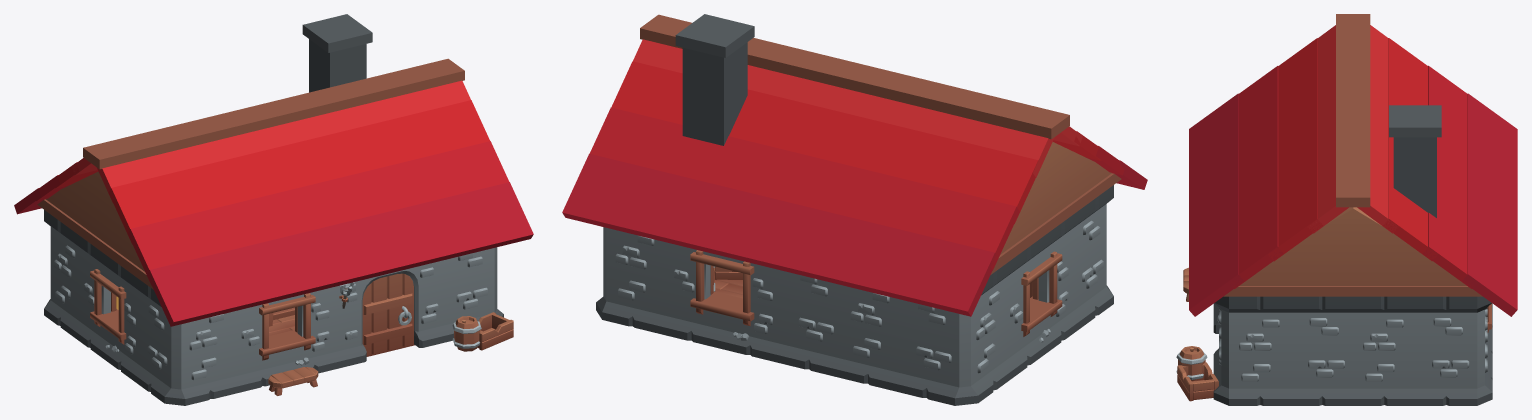
File: FarmHouse.glb
3 renders of one model, left to right at view 1: azimuth 30°, elevation 25°; view 2: azimuth 150°, elevation 25°; view 3: azimuth 270°, elevation 25°, orthographic. The views are drawn at different scales.
Visible parts, largest first — view 1: Roof, wall_corner.002, wall_window_open.001, wall_window_open.002, Gables, wall_doorway, Chimney, wall_corner.003, wall_doorway_door, wall_corner.001, crate_small, bench (+1 smaller); view 2: Roof, wall, wall_corner.001, wall_window_open, wall_window_open.002, Chimney, wall_corner, Gables, wall_corner.002; view 3: Roof, wall.001, Gables, wall_corner, wall_corner.003, Chimney, crate_small, barrel_small, wall_window_open.
Part boxes in pixels (bbox=[...]): Roof: bbox=[14, 58, 533, 326]; wall_corner.002: bbox=[134, 276, 237, 405]; wall_window_open.001: bbox=[233, 286, 341, 392]; wall_window_open.002: bbox=[74, 232, 140, 381]; Gables: bbox=[37, 171, 153, 289]; wall_doorway: bbox=[338, 260, 446, 367]; Chimney: bbox=[302, 14, 372, 92]; wall_corner.003: bbox=[442, 247, 503, 342]; wall_doorway_door: bbox=[362, 273, 413, 355]; wall_corner.001: bbox=[44, 210, 80, 336]; crate_small: bbox=[477, 312, 513, 350]; bench: bbox=[268, 367, 318, 395]; Roof: bbox=[562, 14, 1147, 316]; wall: bbox=[778, 271, 900, 391]; wall_corner.001: bbox=[896, 259, 1012, 405]; wall_window_open: bbox=[661, 242, 782, 362]; wall_window_open.002: bbox=[1004, 210, 1079, 377]; Chimney: bbox=[675, 14, 754, 145]; wall_corner: bbox=[596, 227, 665, 333]; Gables: bbox=[990, 142, 1121, 274]; wall_corner.002: bbox=[1072, 185, 1113, 328]; Roof: bbox=[1189, 14, 1517, 316]; wall.001: bbox=[1291, 296, 1415, 405]; Gables: bbox=[1223, 207, 1482, 296]; wall_corner: bbox=[1415, 296, 1492, 405]; wall_corner.003: bbox=[1213, 296, 1291, 405]; Chimney: bbox=[1389, 105, 1441, 217]; crate_small: bbox=[1177, 362, 1218, 401]; barrel_small: bbox=[1176, 346, 1207, 380]; wall_window_open: bbox=[1485, 303, 1492, 365].
Size of what is drawn, in the model's own units: 9.8 by 6.33 by 7.7.
1 material, 1 textured.
